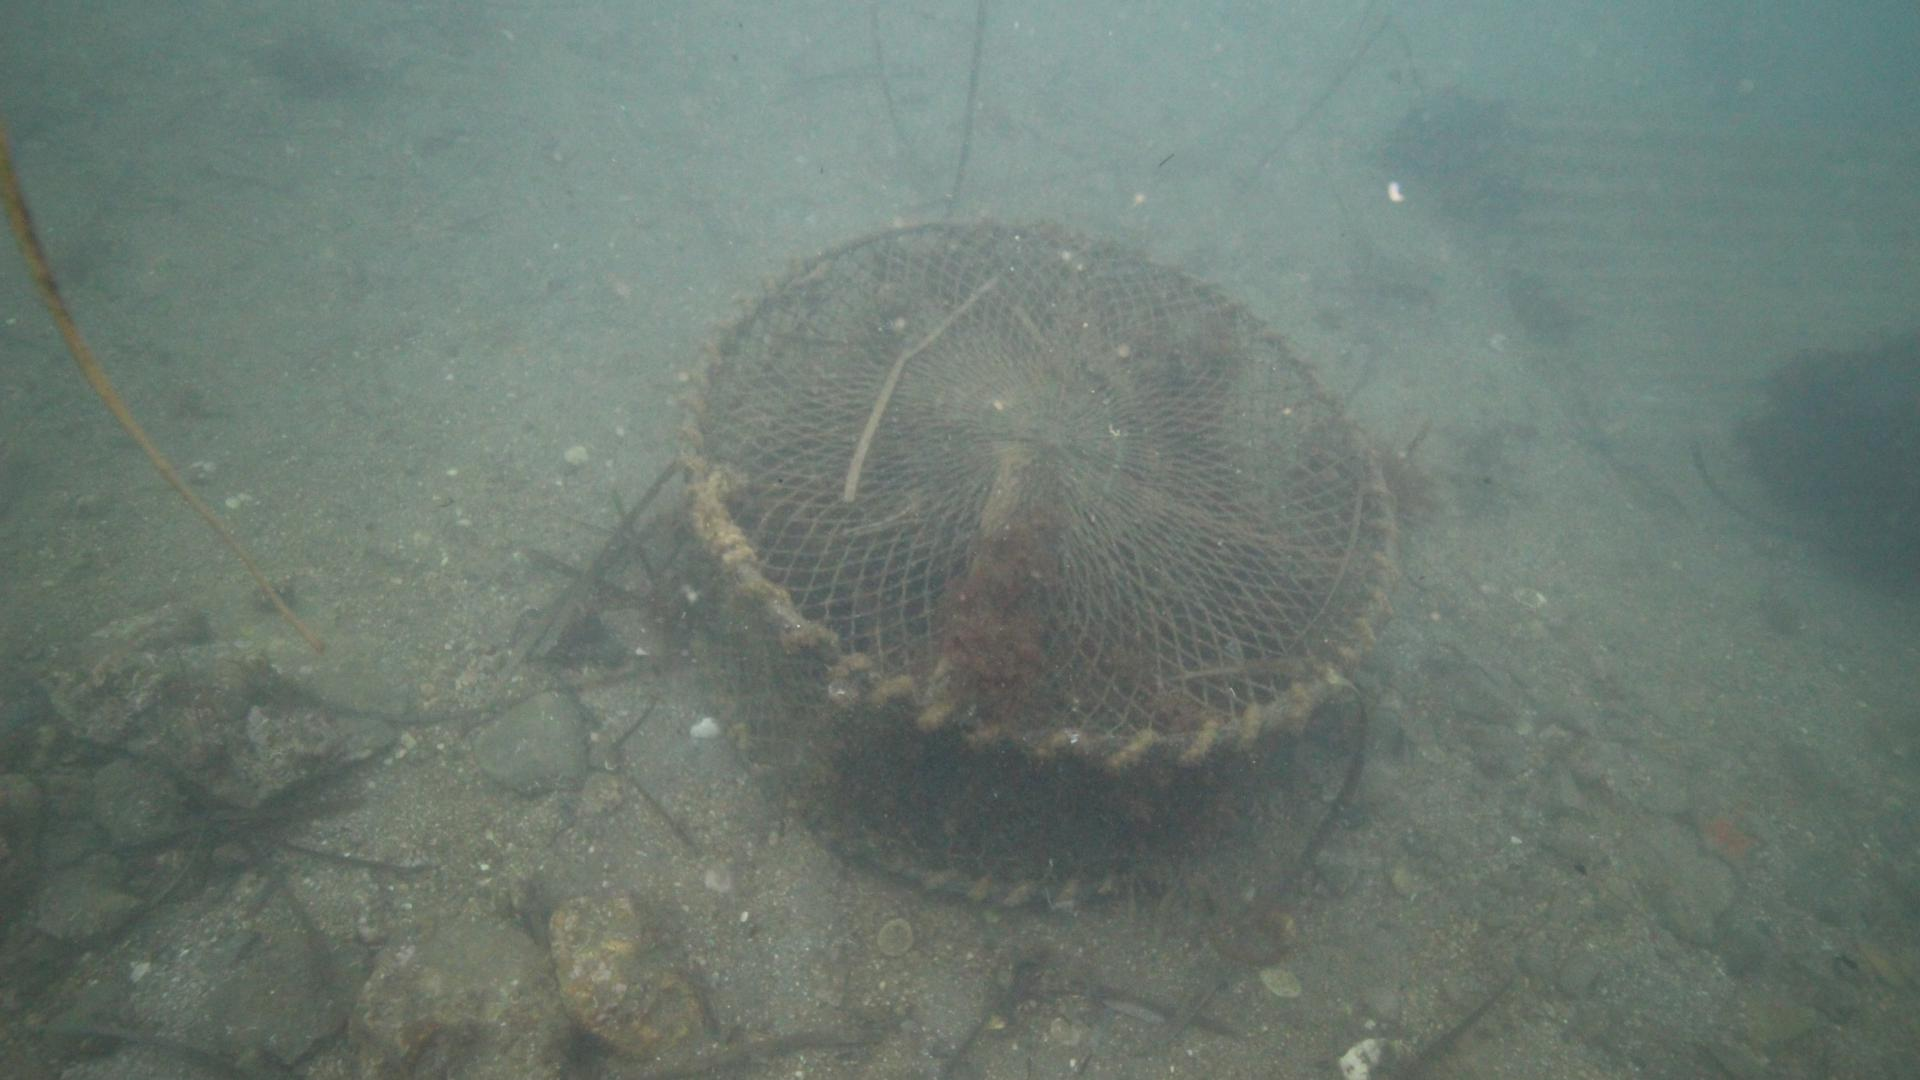circular fish trap: (676, 215, 1398, 909)
